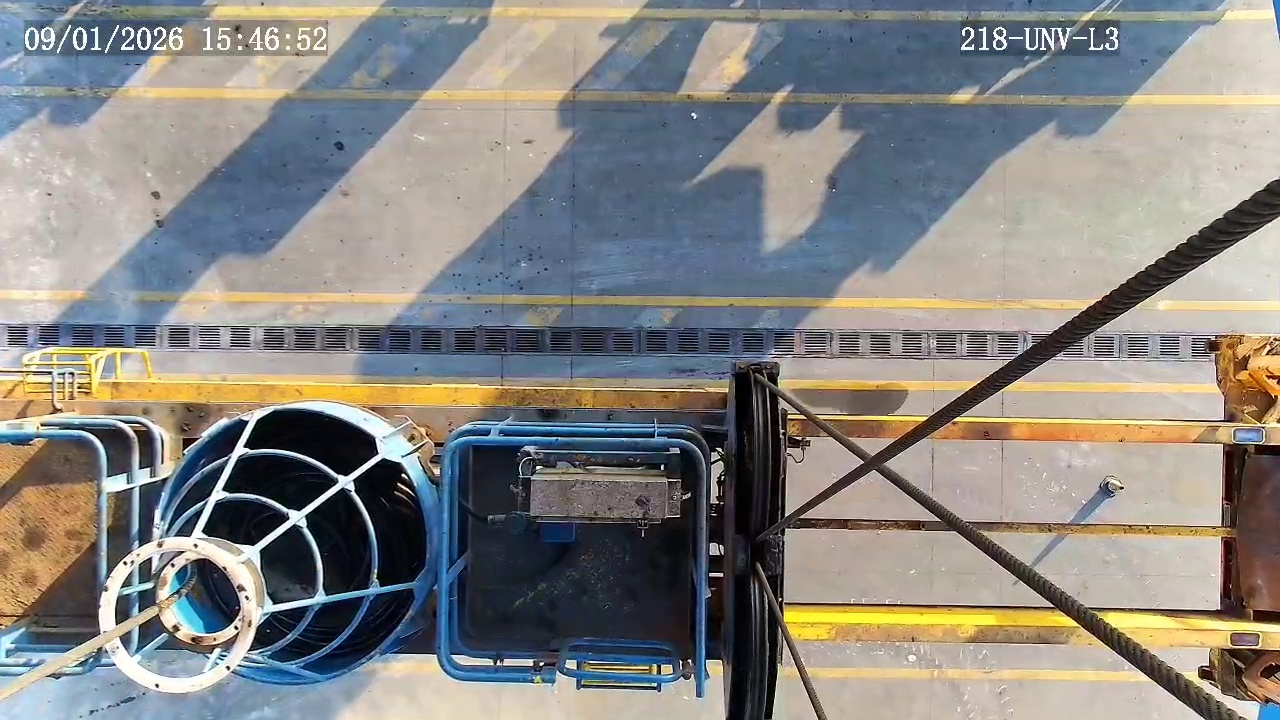right: (98, 538, 257, 693)
